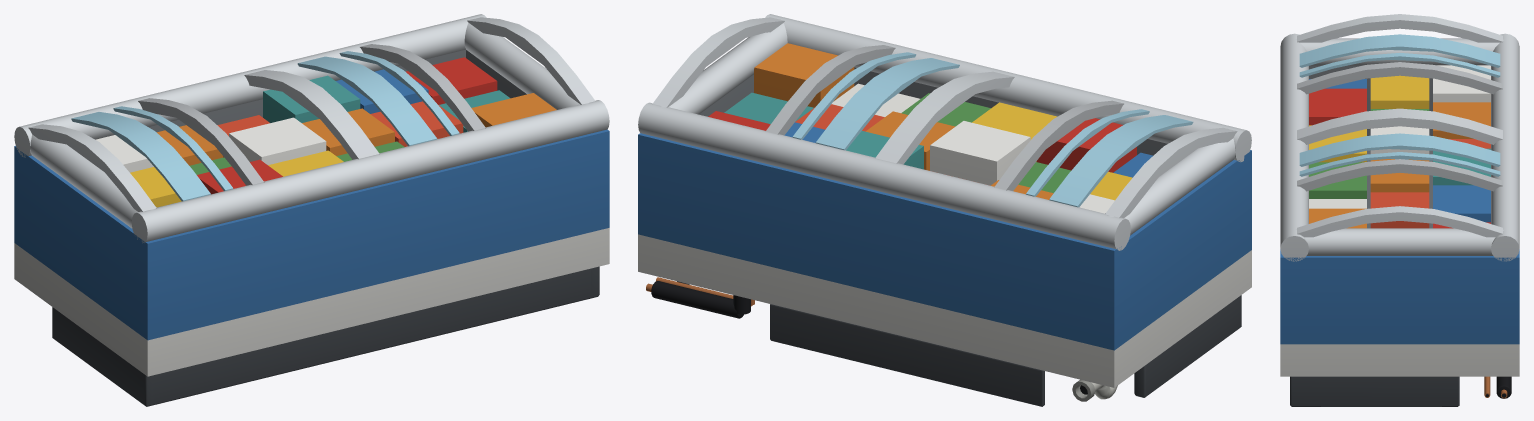
Rendered from IslandFreezer_Coffin_20_Stocked.glb.
3 renders of one model, left to right at view 1: azimuth 30°, elevation 25°; view 2: azimuth 150°, elevation 25°; view 3: azimuth 270°, elevation 25°, orthographic. The views are drawn at different scales.
Parts seen in each view (by area): view 1: SM_IslandFreezer_Coffin_20_Stocked; view 2: SM_IslandFreezer_Coffin_20_Stocked; view 3: SM_IslandFreezer_Coffin_20_Stocked.
Part boxes in pixels (x1=…): SM_IslandFreezer_Coffin_20_Stocked: x1=14, y1=14, x2=609, y2=406; SM_IslandFreezer_Coffin_20_Stocked: x1=638, y1=14, x2=1251, y2=406; SM_IslandFreezer_Coffin_20_Stocked: x1=1280, y1=14, x2=1519, y2=406.
Bounding box in the file's own units: 2 × 0.9 × 1.
Materials: 1 (1 with a texture image).
